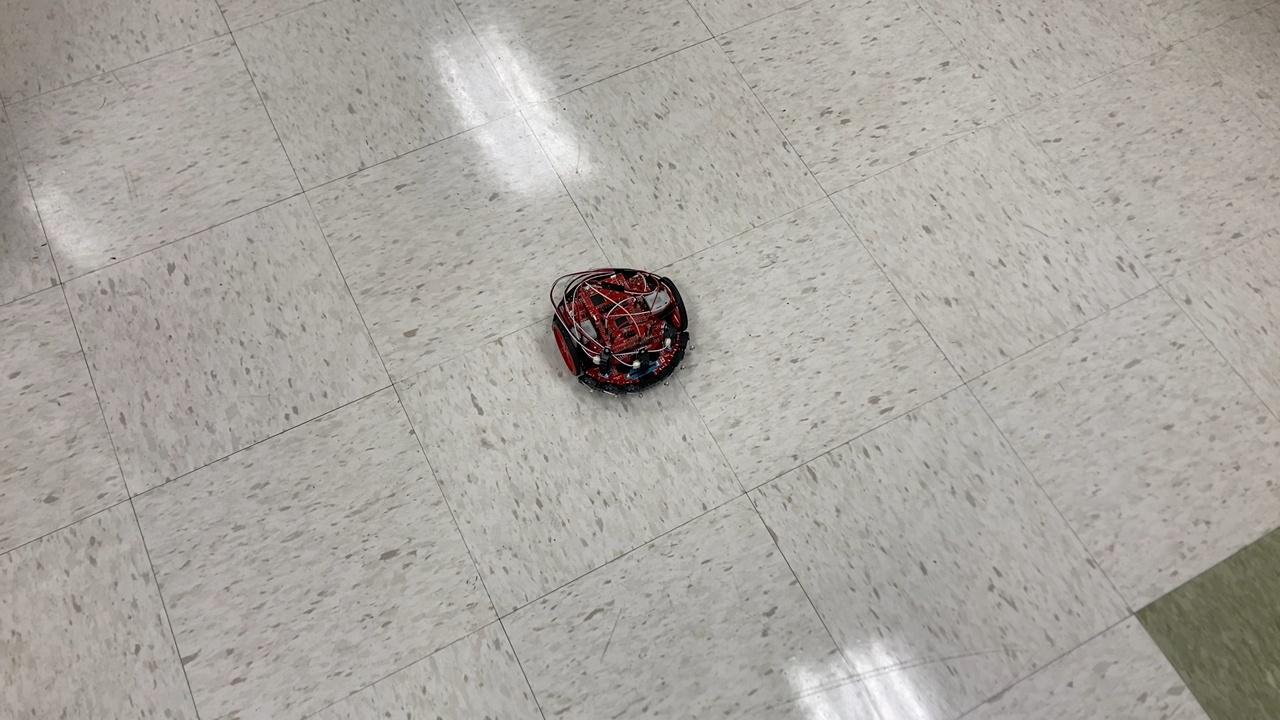robot: (545, 263, 696, 402)
